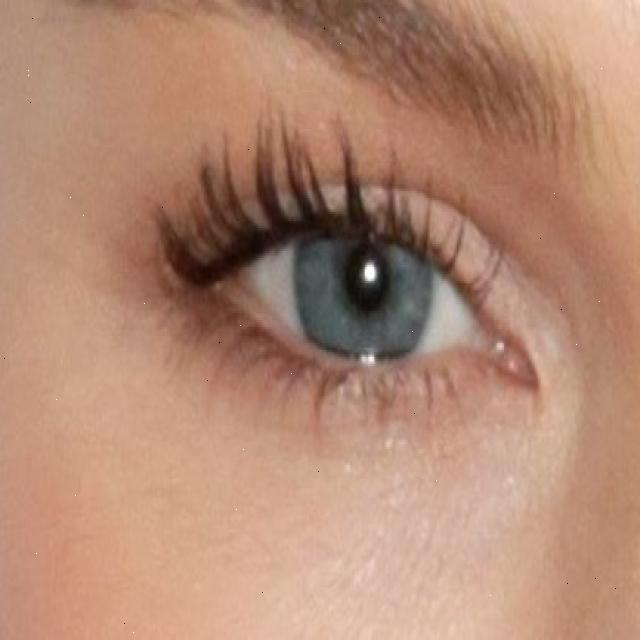Normal: (291, 173, 432, 388)
